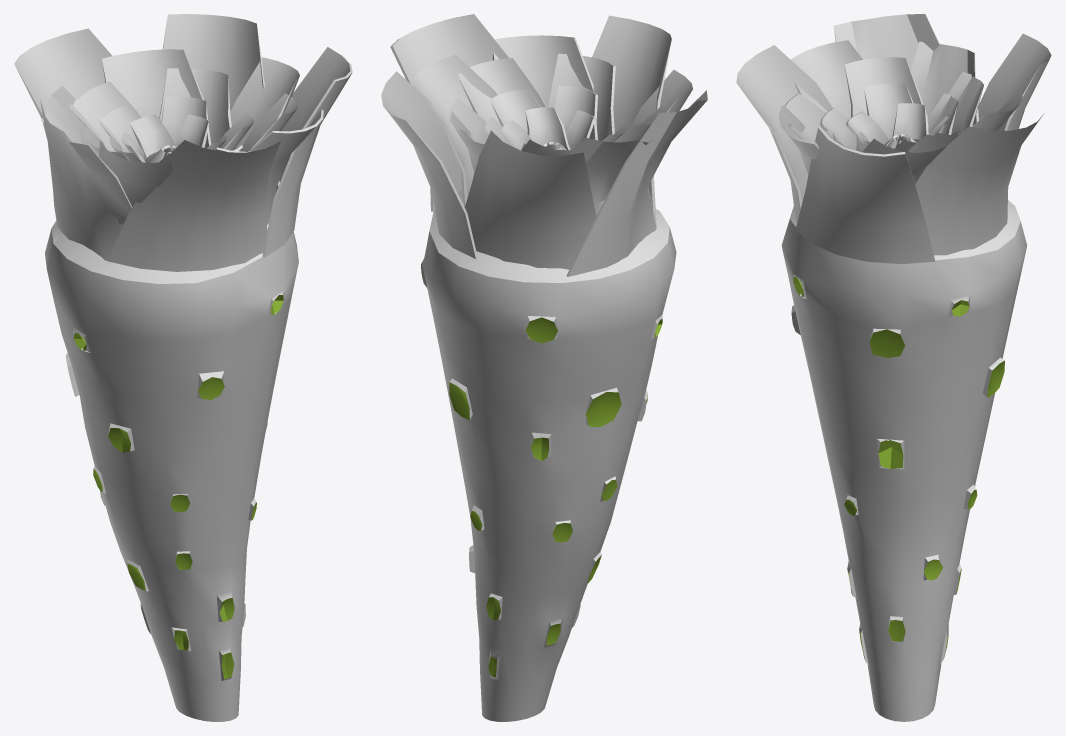
Rendered from sushi_wasabi.fbx.
3 views of the same model, side by side, from view 1: azimuth 30°, elevation 25°; view 2: azimuth 150°, elevation 25°; view 3: azimuth 270°, elevation 25° (orthographic). The views are drawn at different scales.
Parts seen in each view (by area): view 1: わさび; view 2: わさび; view 3: わさび.
Part boxes in pixels (x1=…): わさび: x1=14, y1=14, x2=352, y2=721; わさび: x1=381, y1=14, x2=707, y2=721; わさび: x1=736, y1=14, x2=1051, y2=721.
Size of the model in its own units: 2.47 by 5.22 by 2.4.
